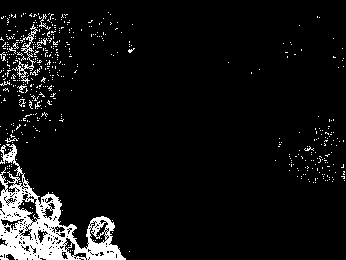person: (29, 186, 78, 260), (77, 205, 131, 260), (1, 138, 43, 206)
